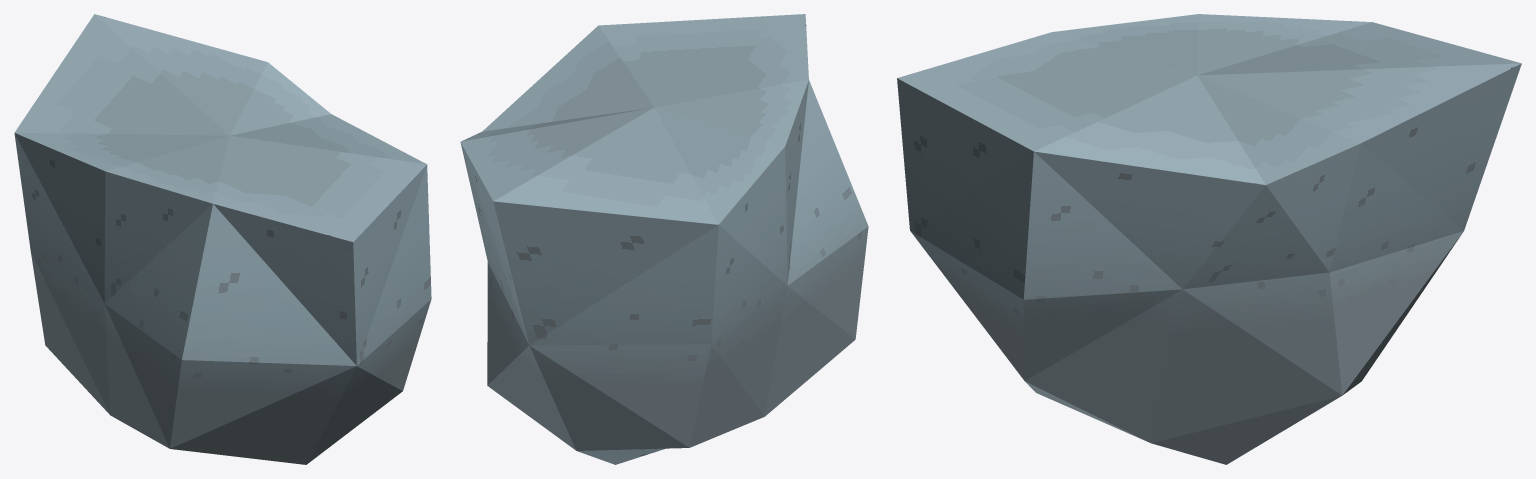
The model's file is roca_1.gltf.
3 renders of one model, left to right at view 1: azimuth 30°, elevation 25°; view 2: azimuth 150°, elevation 25°; view 3: azimuth 270°, elevation 25°, orthographic. The views are drawn at different scales.
Parts seen in each view (by area): view 1: roca1; view 2: roca1; view 3: roca1.
Part boxes in pixels (box(x1,y1,x2,y2)): roca1: box(14, 14, 431, 464); roca1: box(460, 14, 868, 464); roca1: box(897, 14, 1521, 464).
Size of the model in its own units: 2.15 by 2.65 by 3.82.
1 material, 1 textured.
